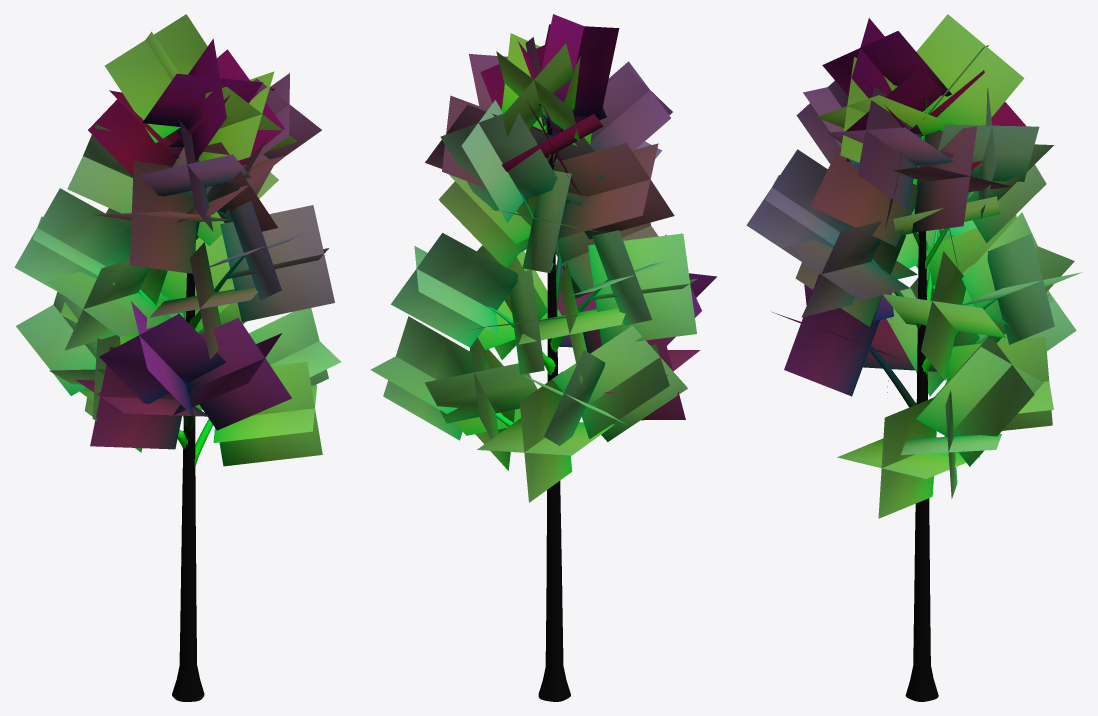
The model's file is URP_P5_Tree_1_LOD_0.fbx.
3 renders of one model, left to right at view 1: azimuth 30°, elevation 25°; view 2: azimuth 150°, elevation 25°; view 3: azimuth 270°, elevation 25°, orthographic.
Visible parts, largest first — view 1: Tree_1_LOD_0; view 2: Tree_1_LOD_0; view 3: Tree_1_LOD_0.
Boxes of the visible parts, <box> form: Tree_1_LOD_0: <box>14,14,340,701</box>; Tree_1_LOD_0: <box>370,14,716,701</box>; Tree_1_LOD_0: <box>746,14,1082,701</box>.
Size of the model in its own units: 284 by 610 by 278.
